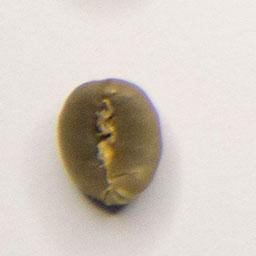premium: (52, 75, 165, 211)
